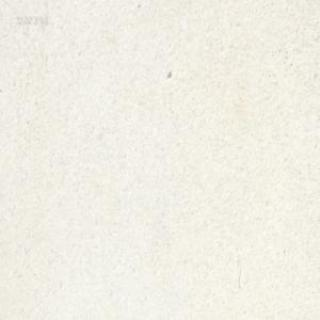Wrenchtrack_idkeyframe: (213, 0, 221, 4)
